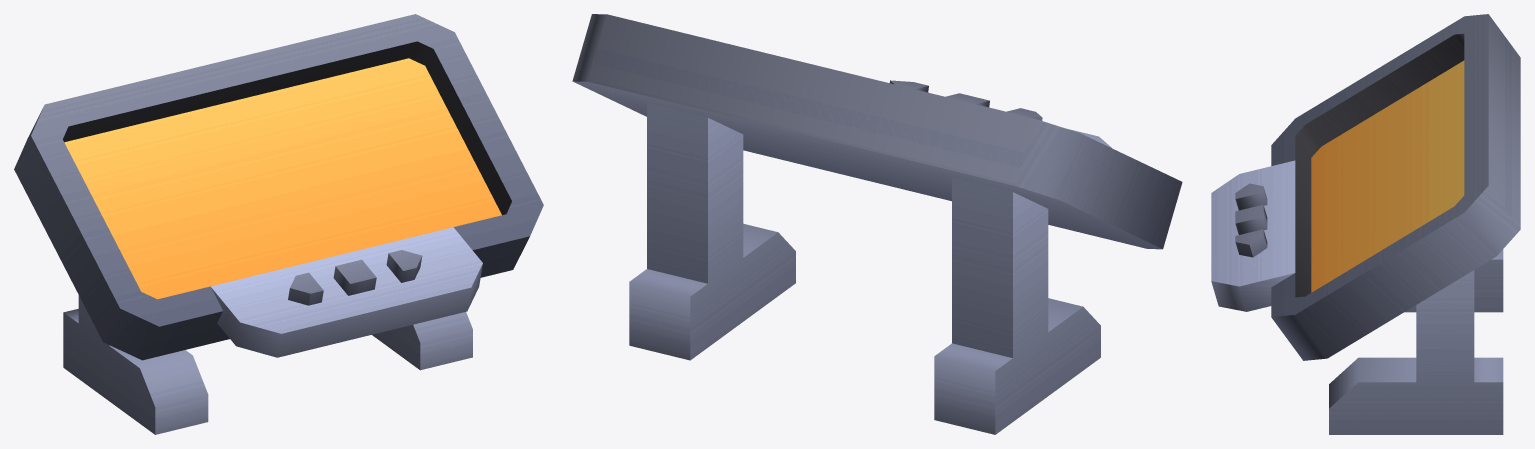
File: computer_wide.glb
The picture shows the model from 3 angles, left to right: view 1: azimuth 30°, elevation 25°; view 2: azimuth 150°, elevation 25°; view 3: azimuth 270°, elevation 25°; orthographic projection. The views are drawn at different scales.
Visible parts, largest first — view 1: computer-wide; view 2: computer-wide; view 3: computer-wide.
Part boxes in pixels (<box>): computer-wide: <box>14,14,543,434</box>; computer-wide: <box>572,14,1182,434</box>; computer-wide: <box>1211,14,1520,434</box>.
Size of the model in its own units: 0.8 by 0.4968 by 0.5332.
1 material, 1 textured.
